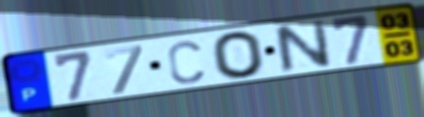7: (51, 50, 95, 103), (329, 14, 373, 67), (103, 44, 145, 96)
C: (165, 39, 207, 86)
N: (270, 17, 334, 76)
O: (209, 29, 268, 80)
